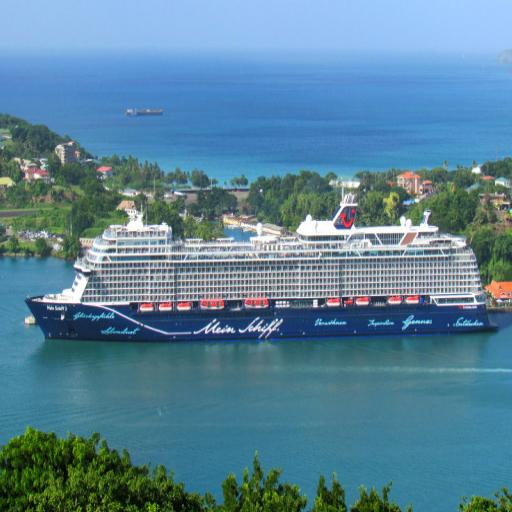cruises: (24, 192, 502, 349)
